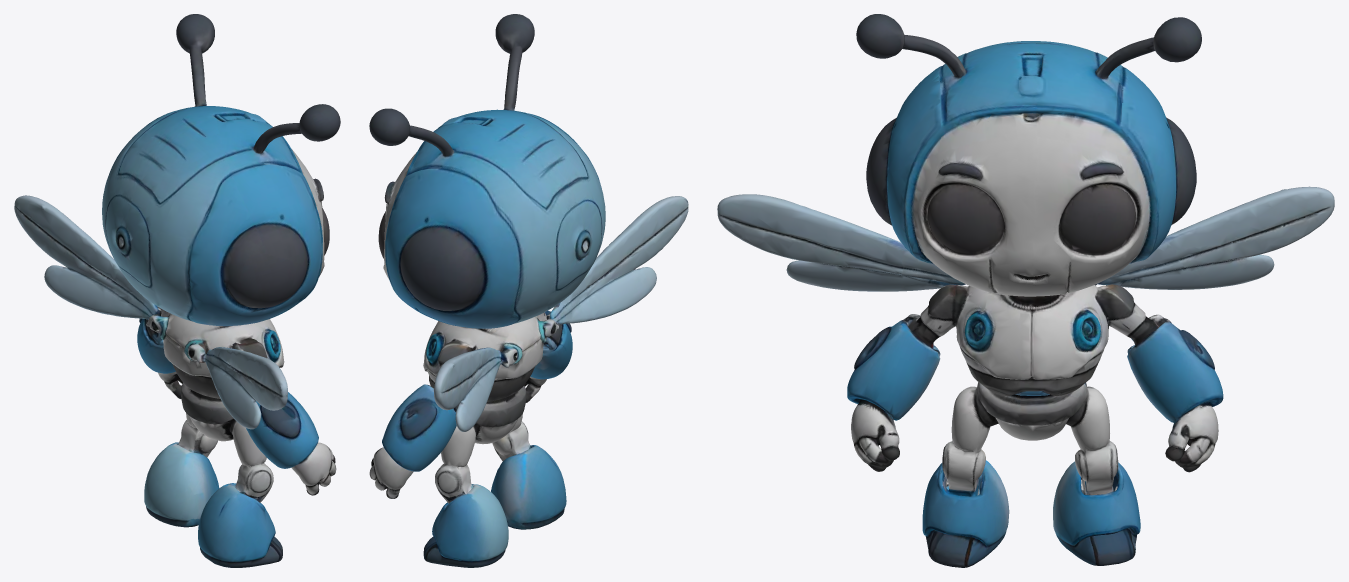
Rendered from alvi.glb.
3 views of the same model, side by side, from view 1: azimuth 30°, elevation 25°; view 2: azimuth 150°, elevation 25°; view 3: azimuth 270°, elevation 25° (orthographic). The views are drawn at different scales.
Visible parts, largest first — view 1: tripo_node_5797e955-6d90-4d29-b5b3-de8ca26c624a; view 2: tripo_node_5797e955-6d90-4d29-b5b3-de8ca26c624a; view 3: tripo_node_5797e955-6d90-4d29-b5b3-de8ca26c624a.
Part boxes in pixels (x1,y1,x2,y2): tripo_node_5797e955-6d90-4d29-b5b3-de8ca26c624a: (14,14,340,567); tripo_node_5797e955-6d90-4d29-b5b3-de8ca26c624a: (369,14,688,567); tripo_node_5797e955-6d90-4d29-b5b3-de8ca26c624a: (717,14,1334,567).
Bounding box in the file's own units: 0.4053 × 0.9985 × 0.9996.
1 material, 1 textured.
